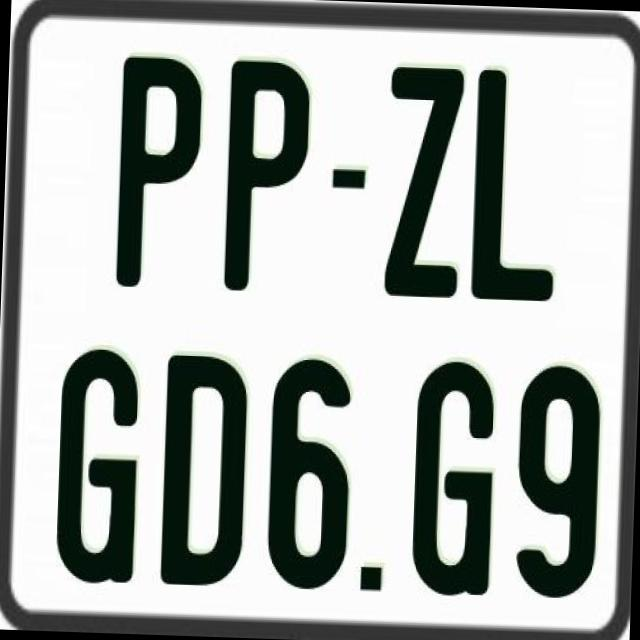6: (264, 353, 354, 593)
9: (509, 364, 603, 608)
D: (160, 353, 256, 593)
G: (52, 343, 146, 589), (406, 358, 498, 600)
L: (468, 64, 562, 304)
P: (220, 56, 314, 290), (116, 51, 205, 286)
Z: (380, 64, 468, 298)
